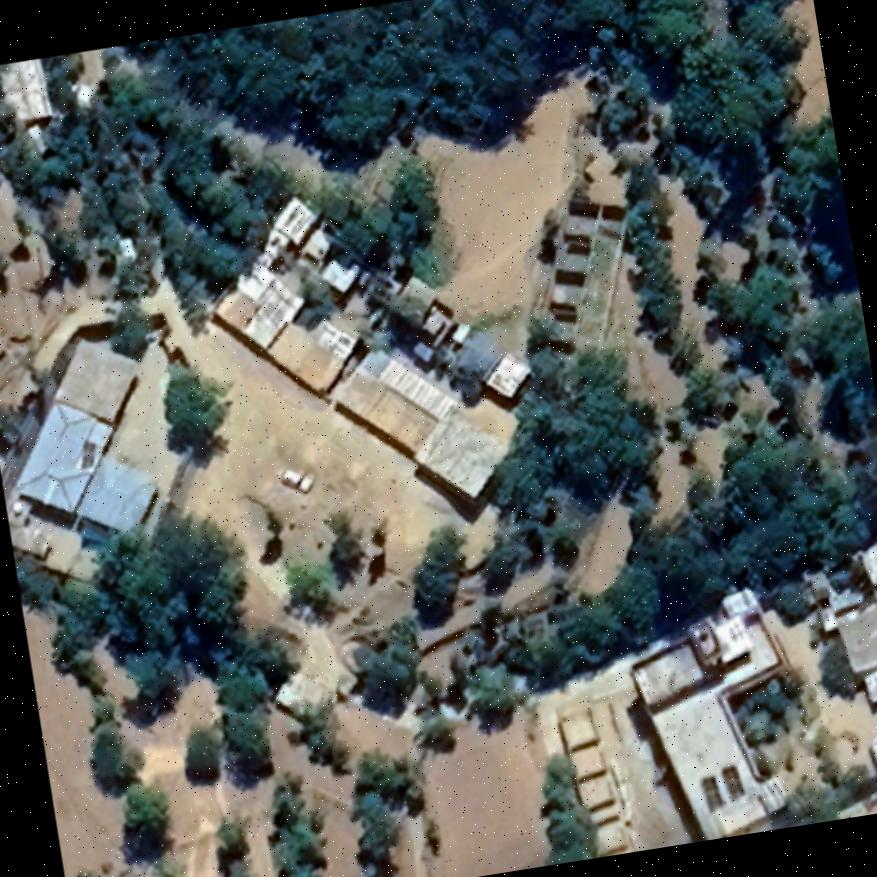Solarpanel: (718, 760, 747, 804), (697, 772, 725, 814)
